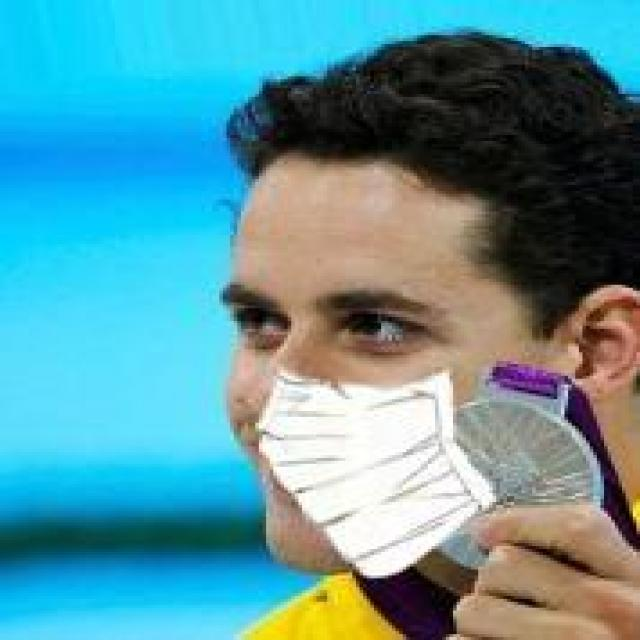mask: (137, 32, 632, 584)
